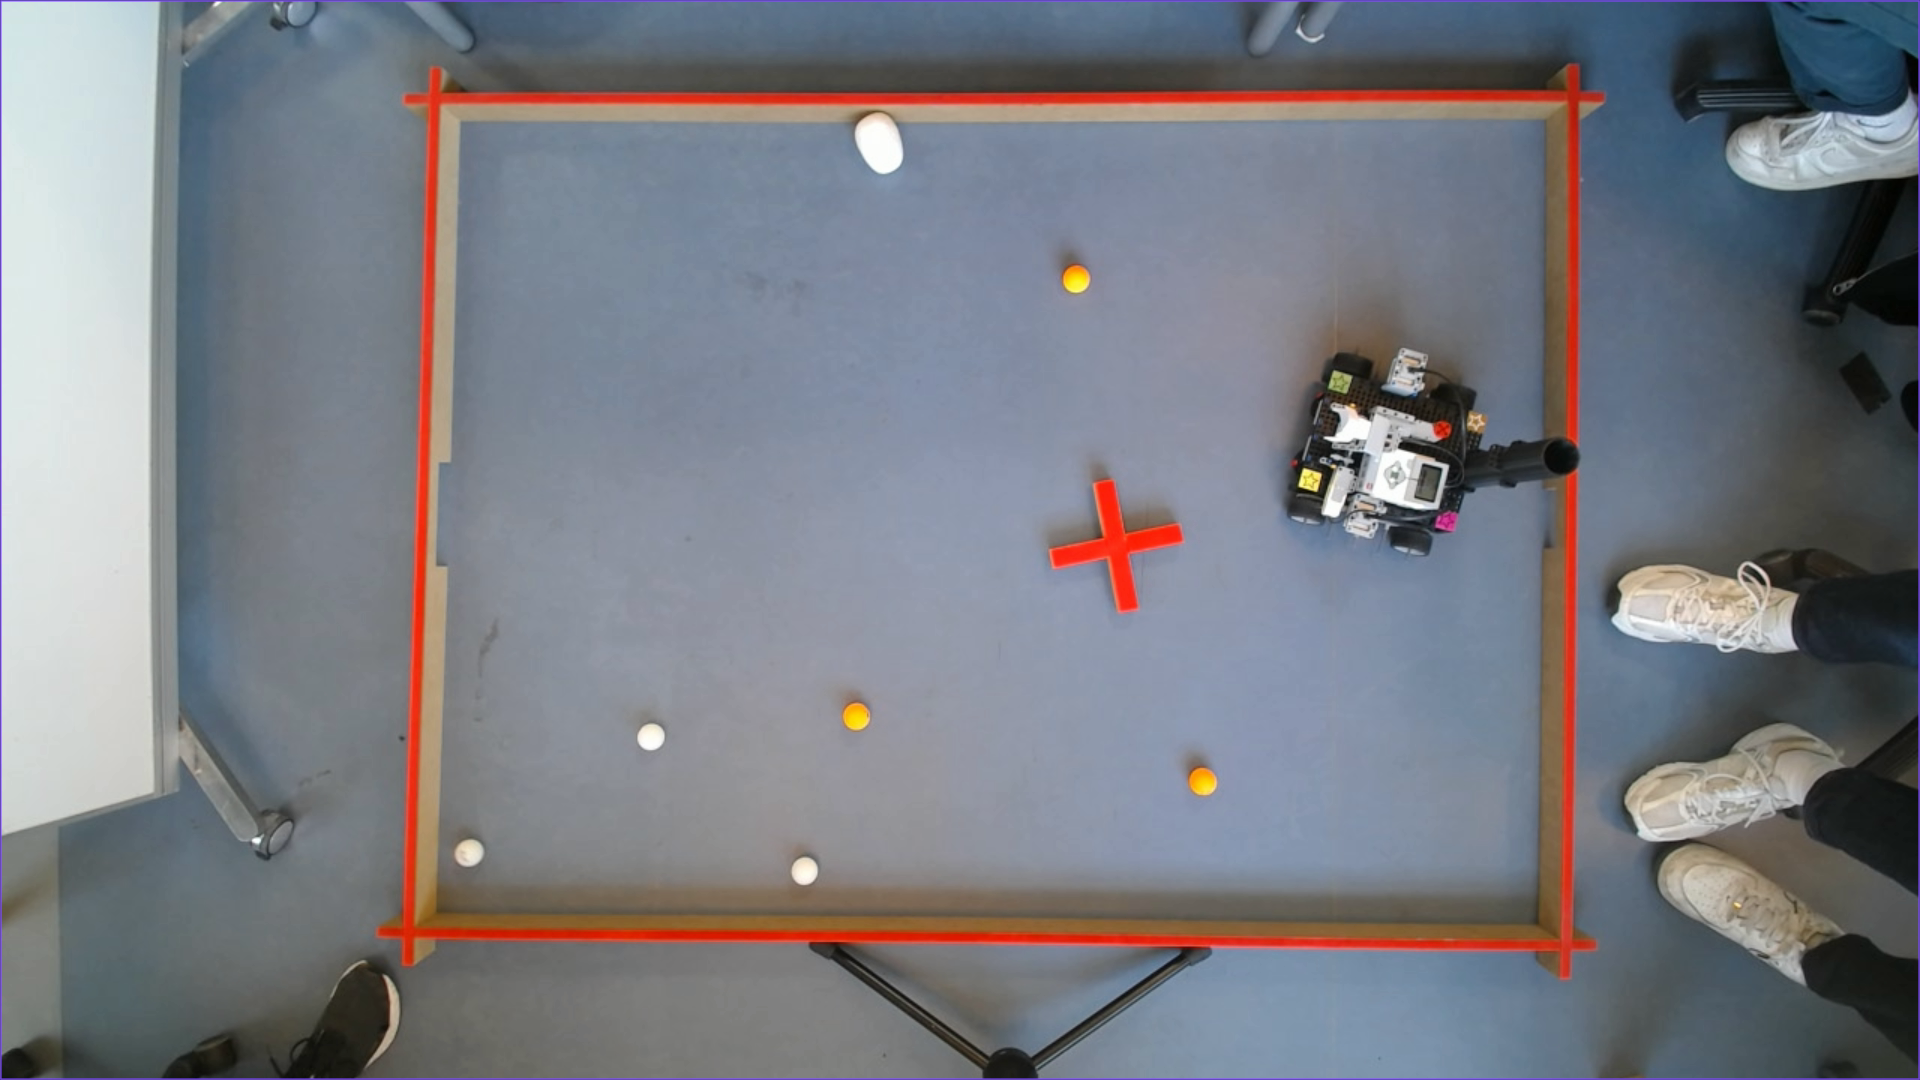ball_orange: (1189, 767, 1218, 798), (844, 702, 872, 732), (1063, 265, 1091, 293)
ball_white: (455, 839, 485, 869), (638, 723, 666, 752), (793, 856, 819, 885)
corner_brown: (1465, 410, 1487, 433)
corner_green: (1328, 369, 1354, 394)
corner_pink: (1435, 510, 1458, 531)
corner_yellow: (1299, 467, 1323, 492)
cross: (1047, 477, 1185, 612)
egg: (855, 112, 905, 174)
playfield: (400, 88, 1581, 953)
